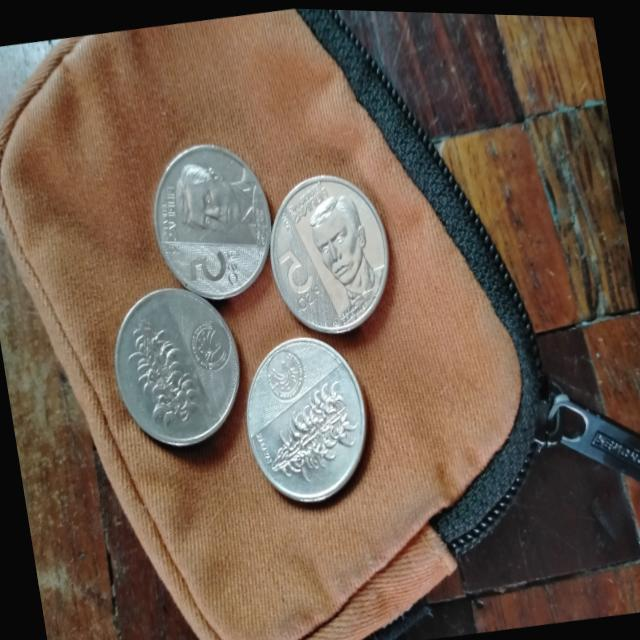5_New_Back: (253, 374, 373, 496), (112, 307, 208, 446)
5_New_Front: (174, 229, 252, 299), (266, 242, 326, 312)
